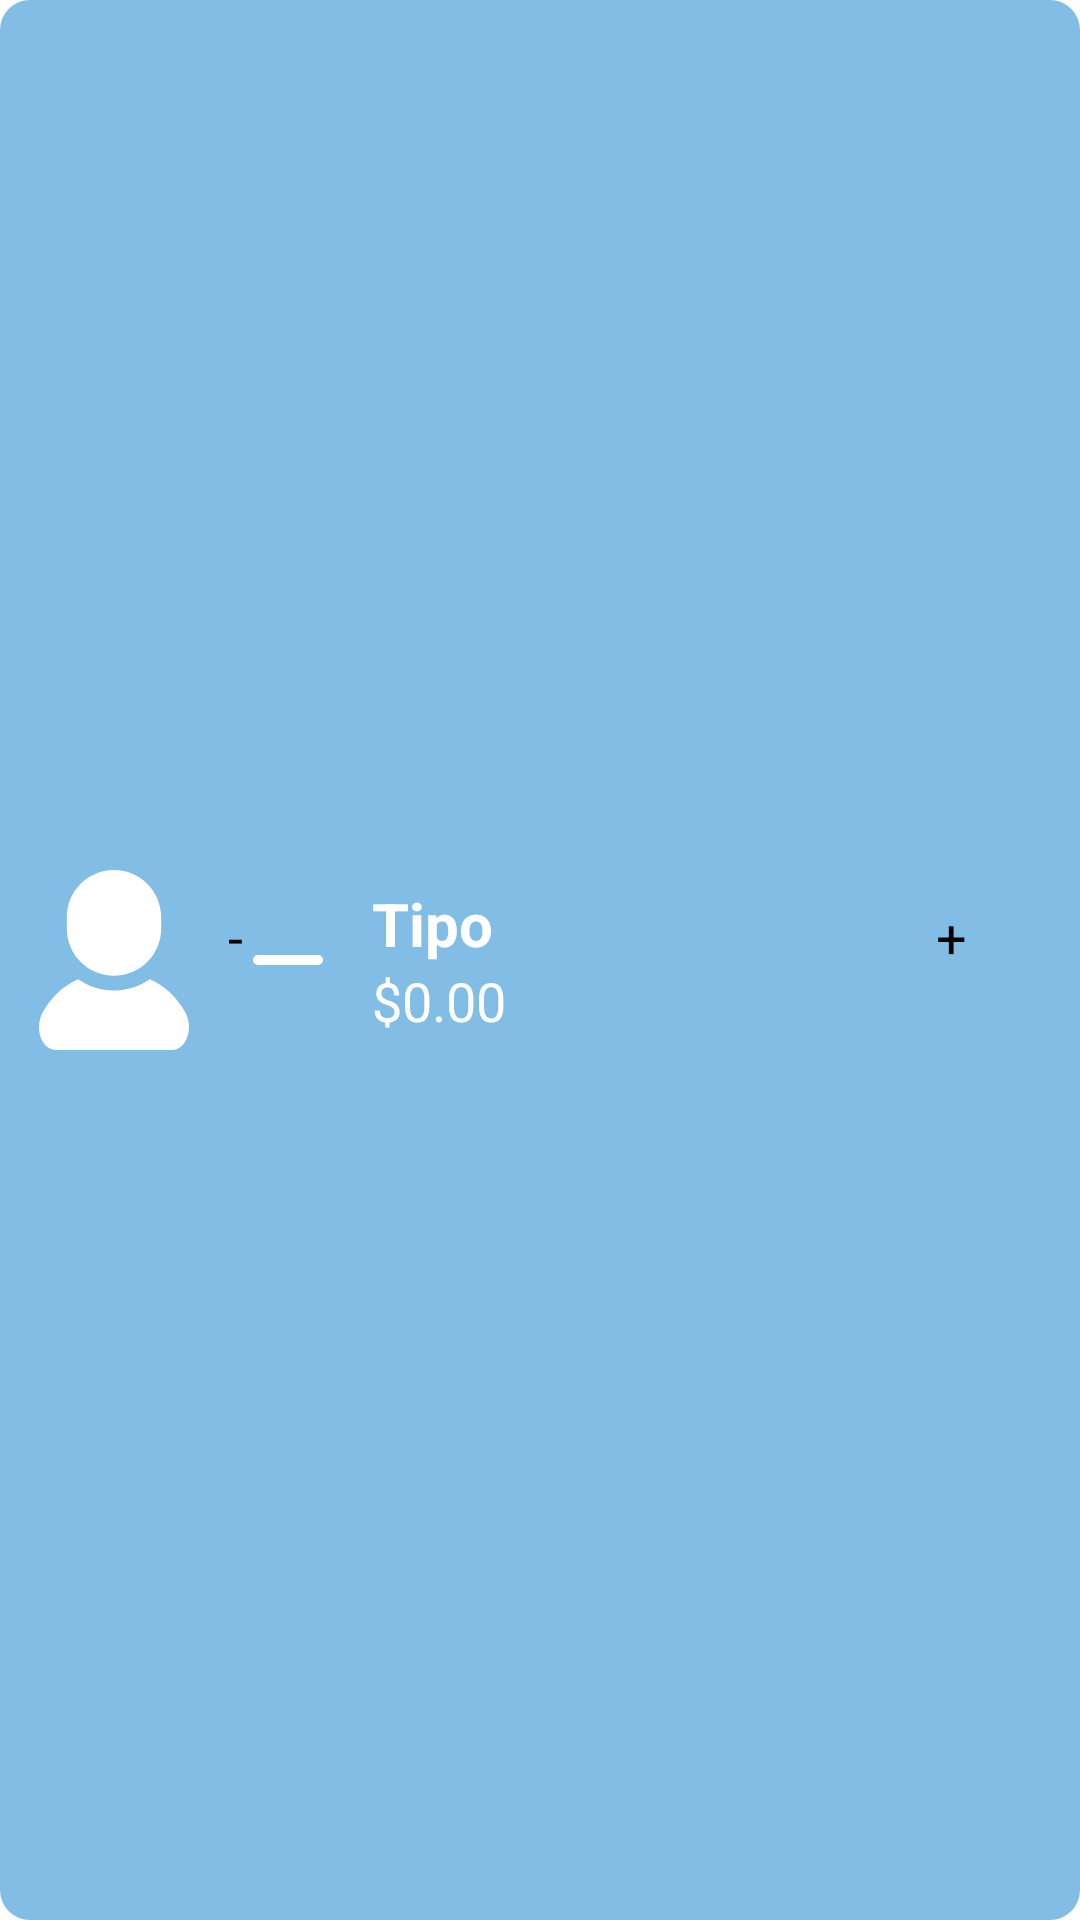

Named icons in this screenshot (1080px×1920px) and their centers, point (x, y):
persona: point (114, 960)
